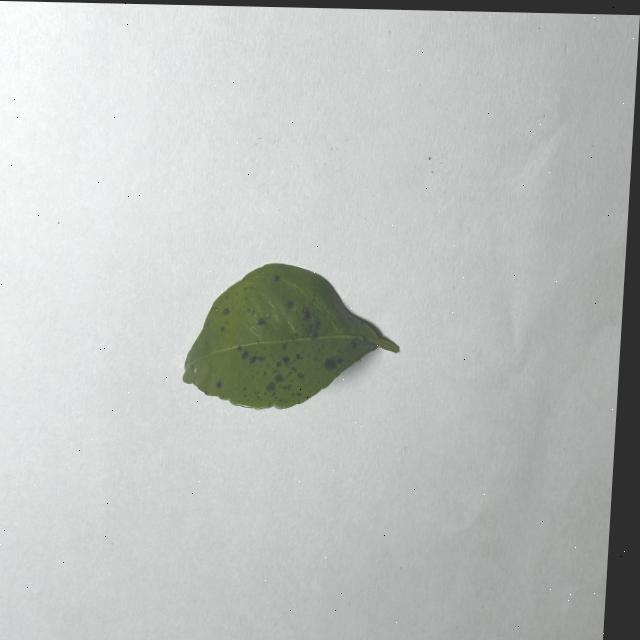sooty_mold: (183, 263, 399, 408)
